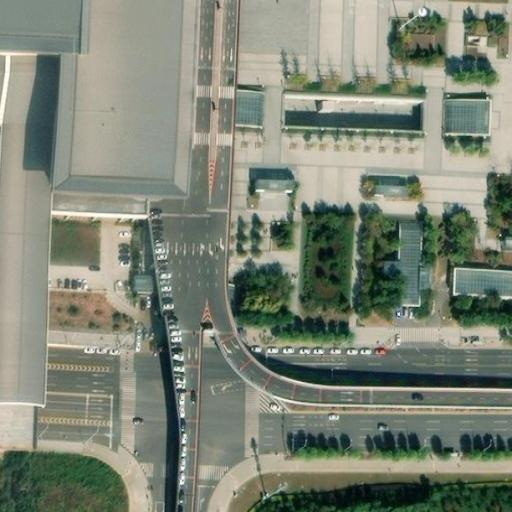building: (376, 221, 434, 308), (441, 92, 488, 133), (454, 268, 512, 299), (253, 178, 297, 194), (371, 178, 408, 196), (497, 230, 512, 249)
